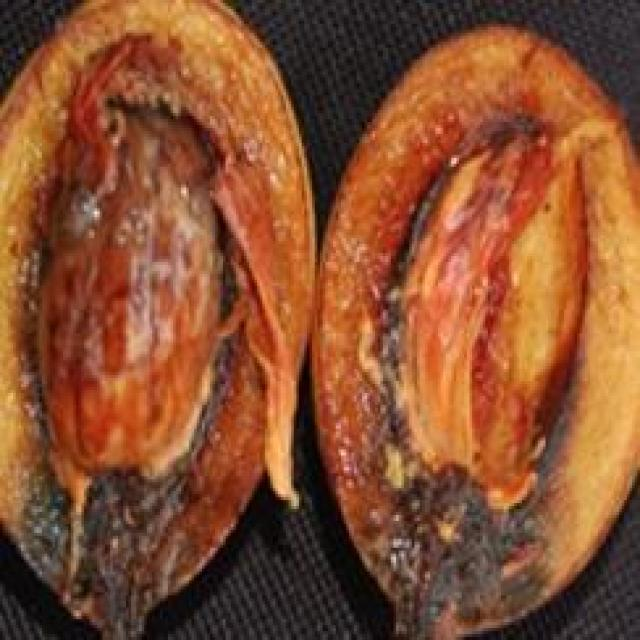damaged: (0, 0, 312, 637), (312, 27, 637, 637)
